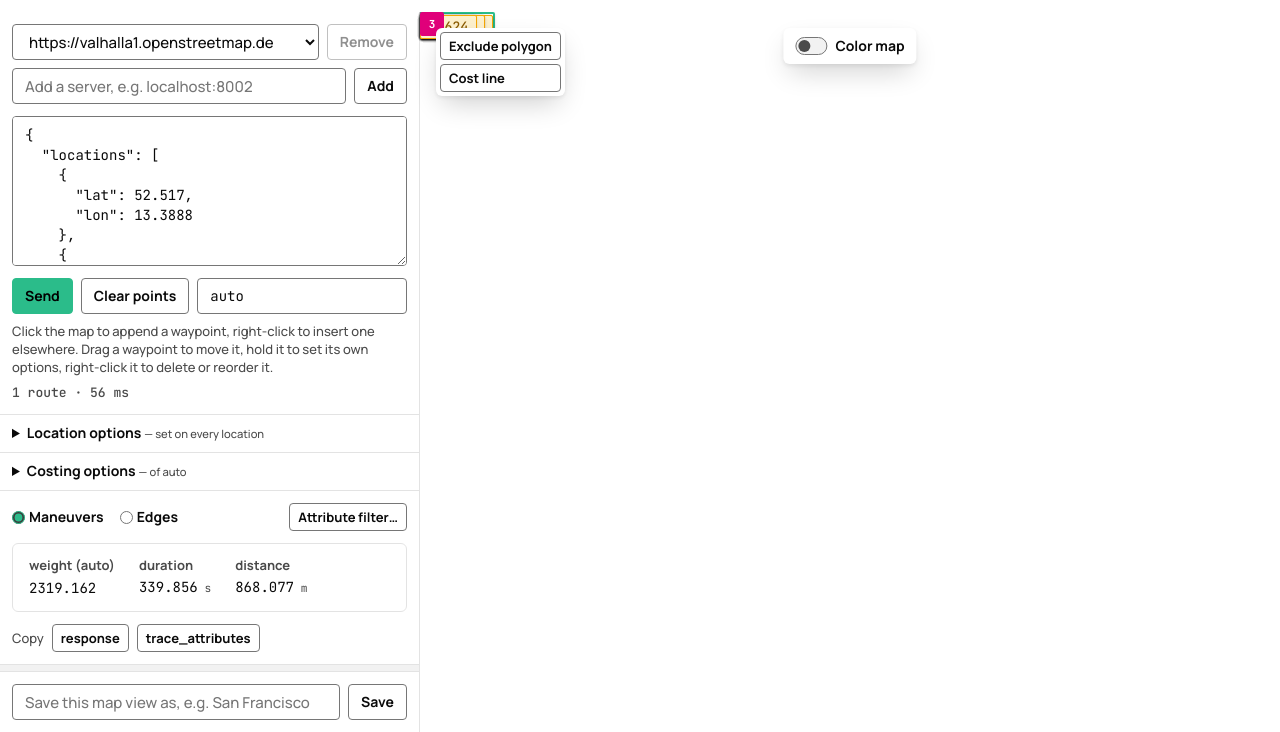
Test: route playground › map matches a leg whose edge walk fails, and says so
Step 1. Click the radio button labelled "Edges" → (126, 517), box [120,510,133,524]
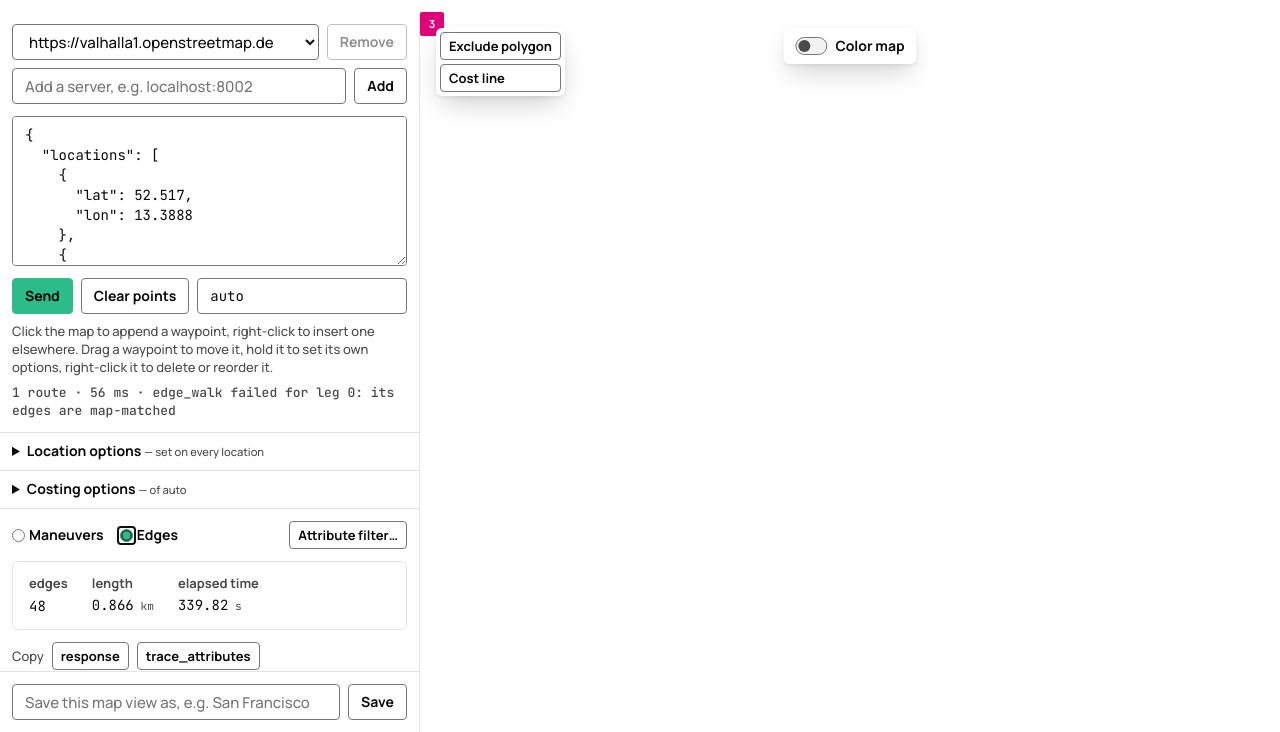
Now the message shows "edge_walk failed for leg 0", box [12,384,394,419]
